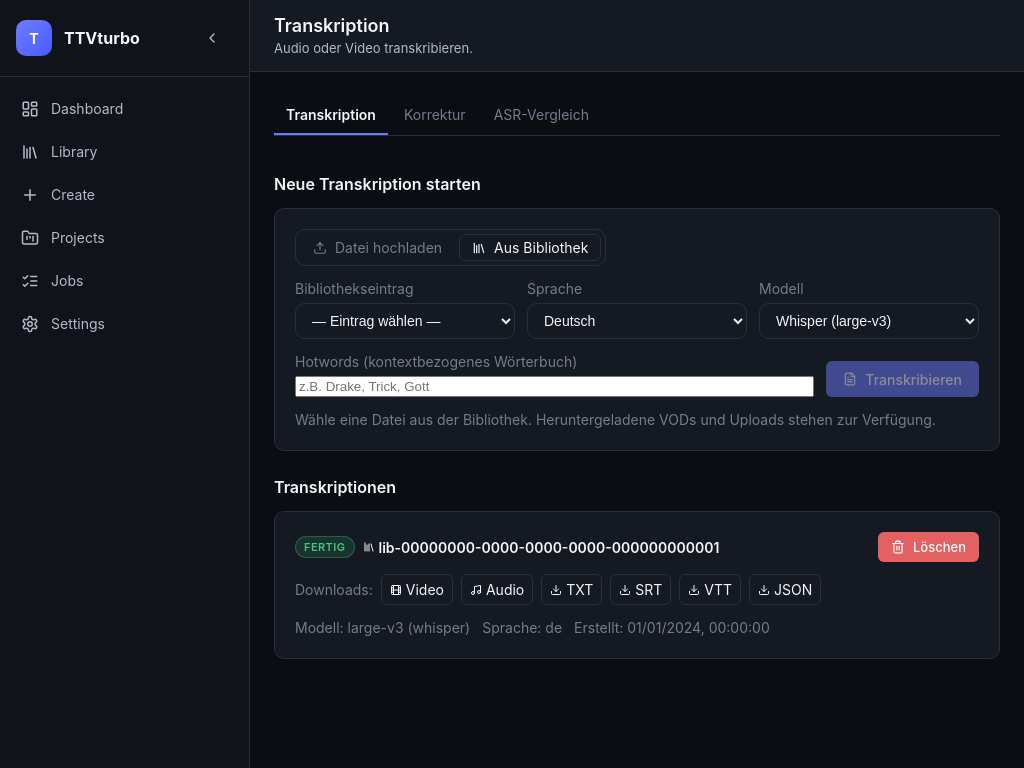
Test: Transcript editor frontend › does not crash on existing transcripts without new correction fields
The image size is (1024, 768).
Expected: the heading "Neue Transkription starten" is shown, [274, 174, 481, 194]
Click the tab "Korrektur". click: {"x": 435, "y": 116}
box: [392, 96, 478, 135]
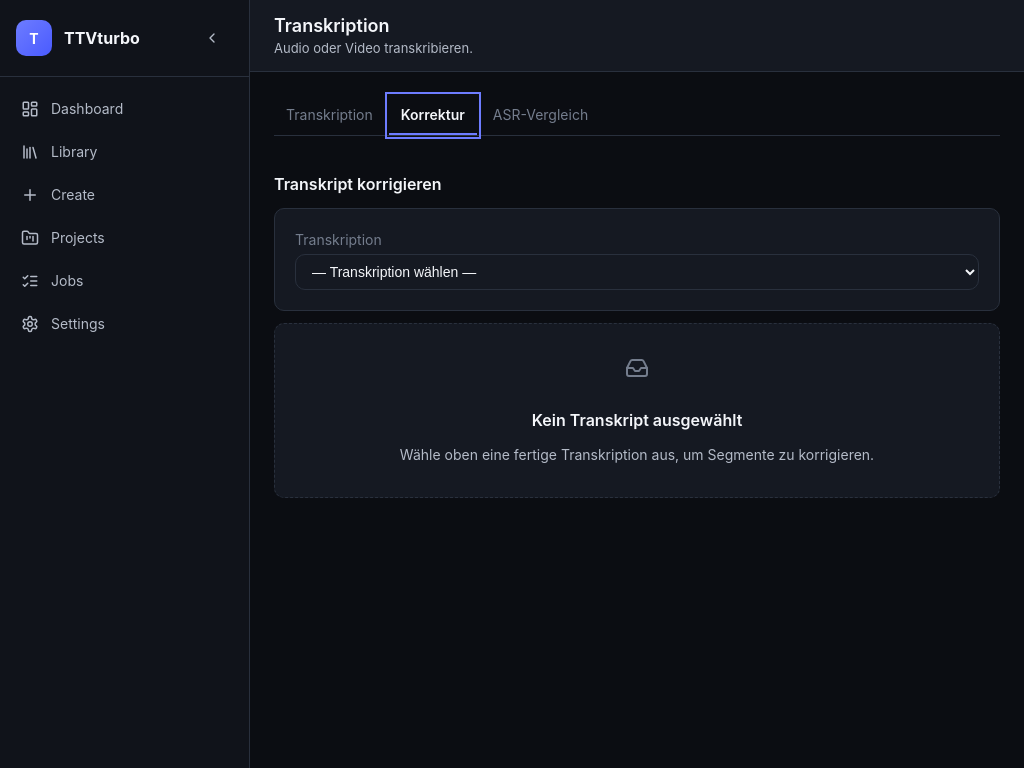
Expected: the heading "Transkript korrigieren" is shown, [274, 174, 442, 194]
Select "Test Upload · large-v3 · 01/01/2024, 00:00:00" in the dropdown labelled "Transkription". click: {"x": 637, "y": 272}
box: [295, 254, 979, 290]
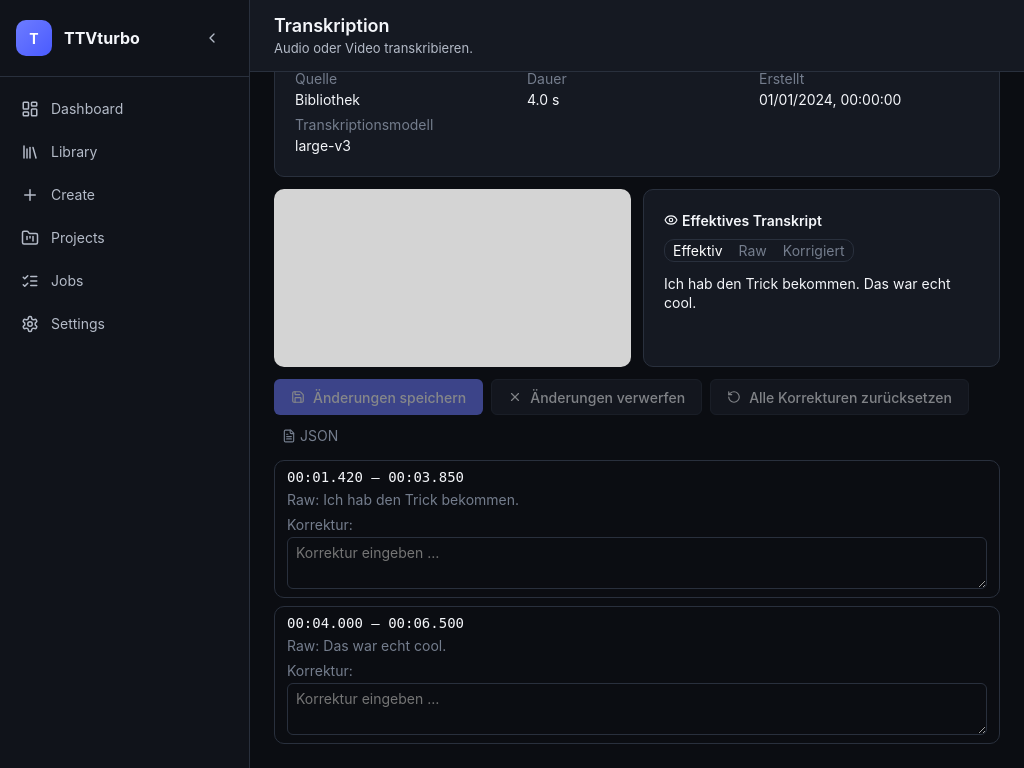
Expected: the text "Ich hab den Trick bekommen." is shown, [323, 489, 519, 510]
